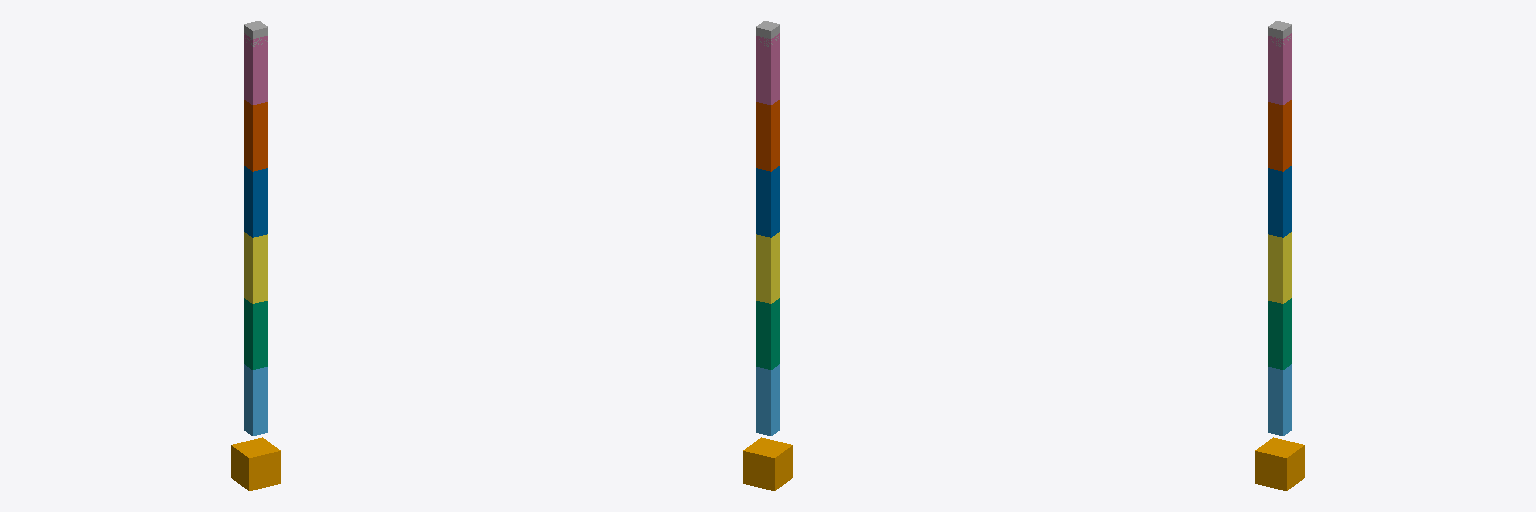
robot.urdf — pegasus_arm:
<?xml version="1.0" ?>
<!-- =================================================================================== -->
<!-- |    This document was autogenerated by xacro from pegasus_arm.urdf.xacro         | -->
<!-- |    EDITING THIS FILE BY HAND IS NOT RECOMMENDED                                 | -->
<!-- =================================================================================== -->
<robot name="pegasus_arm">
  <!-- Links -->
  <link name="base_link">
    <inertial>
      <origin rpy="0 0 0" xyz="0 0 0"/>
      <mass value="1.0"/>
      <inertia ixx="0.01" ixy="0.0" ixz="0.0" iyy="0.01" iyz="0.0" izz="0.01"/>
    </inertial>
    <visual>
      <origin rpy="0 0 0" xyz="0 0 0"/>
      <geometry>
        <box size="0.1 0.1 0.1"/>
      </geometry>
    </visual>
    <collision>
      <origin rpy="0 0 0" xyz="0 0 0"/>
      <geometry>
        <box size="0.1 0.1 0.1"/>
      </geometry>
    </collision>
  </link>
  <link name="link1">
    <inertial>
      <origin rpy="0 0 0" xyz="0 0 0.1"/>
      <mass value="0.5"/>
      <inertia ixx="0.005" ixy="0.0" ixz="0.0" iyy="0.005" iyz="0.0" izz="0.005"/>
    </inertial>
    <visual>
      <origin rpy="0 0 0" xyz="0 0 0.1"/>
      <geometry>
        <box size="0.05 0.05 0.2"/>
      </geometry>
    </visual>
    <collision>
      <origin rpy="0 0 0" xyz="0 0 0.1"/>
      <geometry>
        <box size="0.05 0.05 0.2"/>
      </geometry>
    </collision>
  </link>
  <link name="link2">
    <inertial>
      <origin rpy="0 0 0" xyz="0 0 0.1"/>
      <mass value="0.5"/>
      <inertia ixx="0.005" ixy="0.0" ixz="0.0" iyy="0.005" iyz="0.0" izz="0.005"/>
    </inertial>
    <visual>
      <origin rpy="0 0 0" xyz="0 0 0.1"/>
      <geometry>
        <box size="0.05 0.05 0.2"/>
      </geometry>
    </visual>
    <collision>
      <origin rpy="0 0 0" xyz="0 0 0.1"/>
      <geometry>
        <box size="0.05 0.05 0.2"/>
      </geometry>
    </collision>
  </link>
  <link name="link3">
    <inertial>
      <origin rpy="0 0 0" xyz="0 0 0.1"/>
      <mass value="0.5"/>
      <inertia ixx="0.005" ixy="0.0" ixz="0.0" iyy="0.005" iyz="0.0" izz="0.005"/>
    </inertial>
    <visual>
      <origin rpy="0 0 0" xyz="0 0 0.1"/>
      <geometry>
        <box size="0.05 0.05 0.2"/>
      </geometry>
    </visual>
    <collision>
      <origin rpy="0 0 0" xyz="0 0 0.1"/>
      <geometry>
        <box size="0.05 0.05 0.2"/>
      </geometry>
    </collision>
  </link>
  <link name="link4">
    <inertial>
      <origin rpy="0 0 0" xyz="0 0 0.1"/>
      <mass value="0.5"/>
      <inertia ixx="0.005" ixy="0.0" ixz="0.0" iyy="0.005" iyz="0.0" izz="0.005"/>
    </inertial>
    <visual>
      <origin rpy="0 0 0" xyz="0 0 0.1"/>
      <geometry>
        <box size="0.05 0.05 0.2"/>
      </geometry>
    </visual>
    <collision>
      <origin rpy="0 0 0" xyz="0 0 0.1"/>
      <geometry>
        <box size="0.05 0.05 0.2"/>
      </geometry>
    </collision>
  </link>
  <link name="link5">
    <inertial>
      <origin rpy="0 0 0" xyz="0 0 0.1"/>
      <mass value="0.5"/>
      <inertia ixx="0.005" ixy="0.0" ixz="0.0" iyy="0.005" iyz="0.0" izz="0.005"/>
    </inertial>
    <visual>
      <origin rpy="0 0 0" xyz="0 0 0.1"/>
      <geometry>
        <box size="0.05 0.05 0.2"/>
      </geometry>
    </visual>
    <collision>
      <origin rpy="0 0 0" xyz="0 0 0.1"/>
      <geometry>
        <box size="0.05 0.05 0.2"/>
      </geometry>
    </collision>
  </link>
  <link name="link6">
    <inertial>
      <origin rpy="0 0 0" xyz="0 0 0.1"/>
      <mass value="0.5"/>
      <inertia ixx="0.005" ixy="0.0" ixz="0.0" iyy="0.005" iyz="0.0" izz="0.005"/>
    </inertial>
    <visual>
      <origin rpy="0 0 0" xyz="0 0 0.1"/>
      <geometry>
        <box size="0.05 0.05 0.2"/>
      </geometry>
    </visual>
    <collision>
      <origin rpy="0 0 0" xyz="0 0 0.1"/>
      <geometry>
        <box size="0.05 0.05 0.2"/>
      </geometry>
    </collision>
  </link>
  <link name="end_effector_link">
    <inertial>
      <origin rpy="0 0 0" xyz="0 0 0"/>
      <mass value="0.1"/>
      <inertia ixx="0.001" ixy="0.0" ixz="0.0" iyy="0.001" iyz="0.0" izz="0.001"/>
    </inertial>
    <visual>
      <origin rpy="0 0 0" xyz="0 0 0"/>
      <geometry>
        <box size="0.05 0.05 0.05"/>
      </geometry>
    </visual>
    <collision>
      <origin rpy="0 0 0" xyz="0 0 0"/>
      <geometry>
        <box size="0.05 0.05 0.05"/>
      </geometry>
    </collision>
  </link>
  <!-- Joints -->
  <joint name="joint1" type="revolute">
    <parent link="base_link"/>
    <child link="link1"/>
    <origin rpy="0 0 0" xyz="0 0 0.1"/>
    <axis xyz="0 0 1"/>
    <limit effort="10" lower="-1.57" upper="1.57" velocity="1"/>
  </joint>
  <joint name="joint2" type="revolute">
    <parent link="link1"/>
    <child link="link2"/>
    <origin rpy="0 0 0" xyz="0 0 0.2"/>
    <axis xyz="0 0 1"/>
    <limit effort="10" lower="-1.57" upper="1.57" velocity="1"/>
  </joint>
  <joint name="joint3" type="revolute">
    <parent link="link2"/>
    <child link="link3"/>
    <origin rpy="0 0 0" xyz="0 0 0.2"/>
    <axis xyz="0 0 1"/>
    <limit effort="10" lower="-1.57" upper="1.57" velocity="1"/>
  </joint>
  <joint name="joint4" type="revolute">
    <parent link="link3"/>
    <child link="link4"/>
    <origin rpy="0 0 0" xyz="0 0 0.2"/>
    <axis xyz="0 0 1"/>
    <limit effort="10" lower="-1.57" upper="1.57" velocity="1"/>
  </joint>
  <joint name="joint5" type="revolute">
    <parent link="link4"/>
    <child link="link5"/>
    <origin rpy="0 0 0" xyz="0 0 0.2"/>
    <axis xyz="0 0 1"/>
    <limit effort="10" lower="-1.57" upper="1.57" velocity="1"/>
  </joint>
  <joint name="joint6" type="revolute">
    <parent link="link5"/>
    <child link="link6"/>
    <origin rpy="0 0 0" xyz="0 0 0.2"/>
    <axis xyz="0 0 1"/>
    <limit effort="10" lower="-1.57" upper="1.57" velocity="1"/>
  </joint>
  <joint name="joint6_to_end_effector" type="fixed">
    <parent link="link6"/>
    <child link="end_effector_link"/>
    <origin rpy="0 0 0" xyz="0 0 0.2"/>
  </joint>
  <!-- Transmissions -->
  <transmission name="trans1">
    <type>transmission_interface/SimpleTransmission</type>
    <joint name="joint1">
      <hardwareInterface>hardware_interface/PositionJointInterface</hardwareInterface>
    </joint>
    <actuator name="motor1">
      <mechanicalReduction>1</mechanicalReduction>
    </actuator>
  </transmission>
  <transmission name="trans2">
    <type>transmission_interface/SimpleTransmission</type>
    <joint name="joint2">
      <hardwareInterface>hardware_interface/PositionJointInterface</hardwareInterface>
    </joint>
    <actuator name="motor2">
      <mechanicalReduction>1</mechanicalReduction>
    </actuator>
  </transmission>
  <transmission name="trans3">
    <type>transmission_interface/SimpleTransmission</type>
    <joint name="joint3">
      <hardwareInterface>hardware_interface/PositionJointInterface</hardwareInterface>
    </joint>
    <actuator name="motor3">
      <mechanicalReduction>1</mechanicalReduction>
    </actuator>
  </transmission>
  <transmission name="trans4">
    <type>transmission_interface/SimpleTransmission</type>
    <joint name="joint4">
      <hardwareInterface>hardware_interface/PositionJointInterface</hardwareInterface>
    </joint>
    <actuator name="motor4">
      <mechanicalReduction>1</mechanicalReduction>
    </actuator>
  </transmission>
  <transmission name="trans5">
    <type>transmission_interface/SimpleTransmission</type>
    <joint name="joint5">
      <hardwareInterface>hardware_interface/PositionJointInterface</hardwareInterface>
    </joint>
    <actuator name="motor5">
      <mechanicalReduction>1</mechanicalReduction>
    </actuator>
  </transmission>
  <transmission name="trans6">
    <type>transmission_interface/SimpleTransmission</type>
    <joint name="joint6">
      <hardwareInterface>hardware_interface/PositionJointInterface</hardwareInterface>
    </joint>
    <actuator name="motor6">
      <mechanicalReduction>1</mechanicalReduction>
    </actuator>
  </transmission>
  <!-- ros2_control -->
  <ros2_control name="PegasusArm" type="system">
    <hardware>
      <plugin>mock_components/GenericSystem</plugin>
      <param name="use_mock_hardware">true</param>
    </hardware>
    <joint name="joint1">
      <command_interface name="position">
        <param name="min">-1.57</param>
        <param name="max">1.57</param>
      </command_interface>
    </joint>
    <joint name="joint2">
      <command_interface name="position">
        <param name="min">-1.57</param>
        <param name="max">1.57</param>
      </command_interface>
    </joint>
    <joint name="joint3">
      <command_interface name="position">
        <param name="min">-1.57</param>
        <param name="max">1.57</param>
      </command_interface>
    </joint>
    <joint name="joint4">
      <command_interface name="position">
        <param name="min">-1.57</param>
        <param name="max">1.57</param>
      </command_interface>
    </joint>
    <joint name="joint5">
      <command_interface name="position">
        <param name="min">-1.57</param>
        <param name="max">1.57</param>
      </command_interface>
    </joint>
    <joint name="joint6">
      <command_interface name="position">
        <param name="min">-1.57</param>
        <param name="max">1.57</param>
      </command_interface>
    </joint>
  </ros2_control>
  <gazebo>
    <plugin filename="libgazebo_ros_control.so" name="gazebo_ros_control">
      <robotNamespace>/</robotNamespace>
    </plugin>
  </gazebo>
</robot>

--- Render facts (derived) ---
3 views of the same robot in one strip: view 1: azimuth 30°, elevation 25°; view 2: azimuth 150°, elevation 25°; view 3: azimuth 330°, elevation 25° (orthographic).
Robot: pegasus_arm — 8 links, 7 joints (6 revolute, 1 fixed); root link base_link; default pose: all joints at 0.
Links seen in each view (by area): view 1: base_link, link5, link1, link3, link4, link2, link6; view 2: base_link, link5, link1, link3, link4, link2, link6; view 3: base_link, link5, link1, link3, link4, link2, link6.
Boxes of the visible links, x1,y1,x2,y2 form: base_link: (231, 437, 280, 490); link5: (244, 100, 267, 171); link1: (244, 364, 267, 435); link3: (244, 232, 267, 303); link4: (244, 166, 267, 237); link2: (244, 298, 267, 369); link6: (244, 33, 267, 104); base_link: (743, 437, 792, 490); link5: (756, 100, 779, 171); link1: (756, 364, 779, 435); link3: (756, 232, 779, 303); link4: (756, 166, 779, 237); link2: (756, 298, 779, 369); link6: (756, 33, 779, 104); base_link: (1255, 437, 1304, 490); link5: (1268, 100, 1291, 171); link1: (1268, 364, 1291, 435); link3: (1268, 232, 1291, 303); link4: (1268, 166, 1291, 237); link2: (1268, 298, 1291, 369); link6: (1268, 33, 1291, 104).
Bounding box of the posed robot: 0.1 × 0.1 × 1.38 m (x, y, z).
Geometry: primitives only (box / cylinder / sphere), no mesh files.